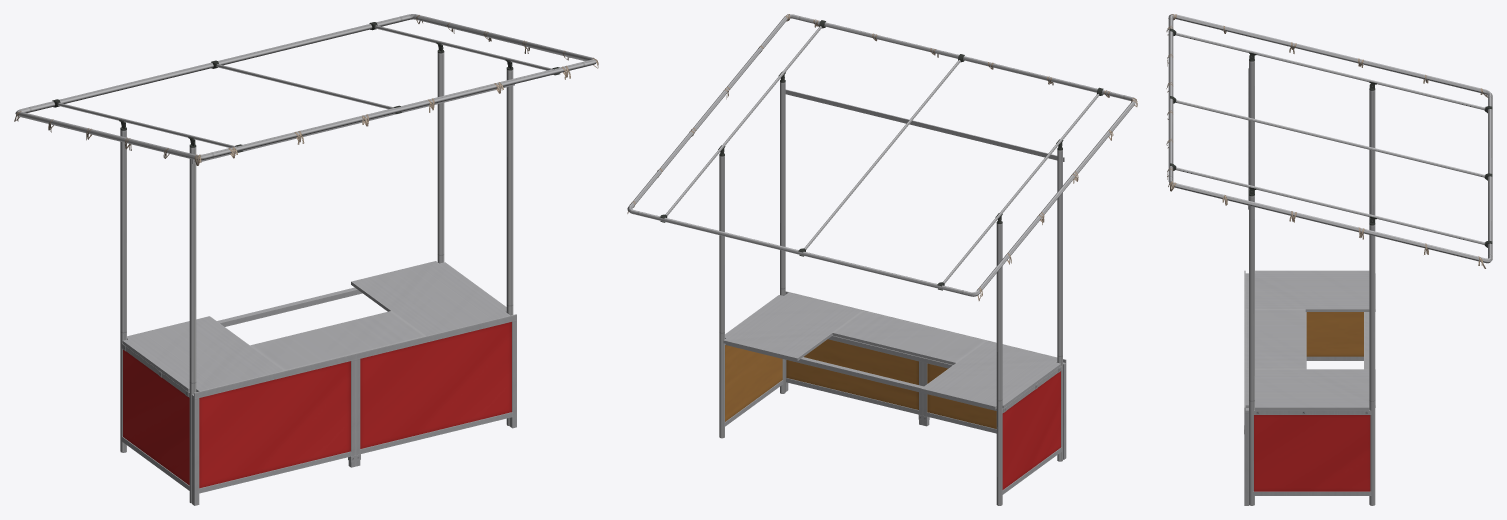
File: jsf_4P_s02_c06_t04.fbx
The picture shows the model from 3 angles, left to right: view 1: azimuth 30°, elevation 25°; view 2: azimuth 150°, elevation 25°; view 3: azimuth 270°, elevation 25°; orthographic projection. The views are drawn at different scales.
Visible parts, largest first — view 1: Base_s02_c06, Table_4P_s02_t04, Pillar4_s02, Rope_4P_s02; view 2: Base_s02_c06, Table_4P_s02_t04, Pillar4_s02, Rope_4P_s02; view 3: Pillar4_s02, Table_4P_s02_t04, Base_s02_c06, Rope_4P_s02.
Boxes of the visible parts, x1,y1,x2,y2 form: Base_s02_c06: (121,314,516,505); Table_4P_s02_t04: (122,261,509,396); Pillar4_s02: (15,14,596,503); Rope_4P_s02: (14,15,598,165); Base_s02_c06: (725,291,1066,494); Table_4P_s02_t04: (723,292,1061,412); Pillar4_s02: (627,14,1136,505); Rope_4P_s02: (627,14,1137,300); Pillar4_s02: (1168,14,1492,505); Table_4P_s02_t04: (1245,270,1375,414); Base_s02_c06: (1244,270,1371,505); Rope_4P_s02: (1166,14,1487,268).
Bounding box in the file's own units: 264 × 243 × 211.
